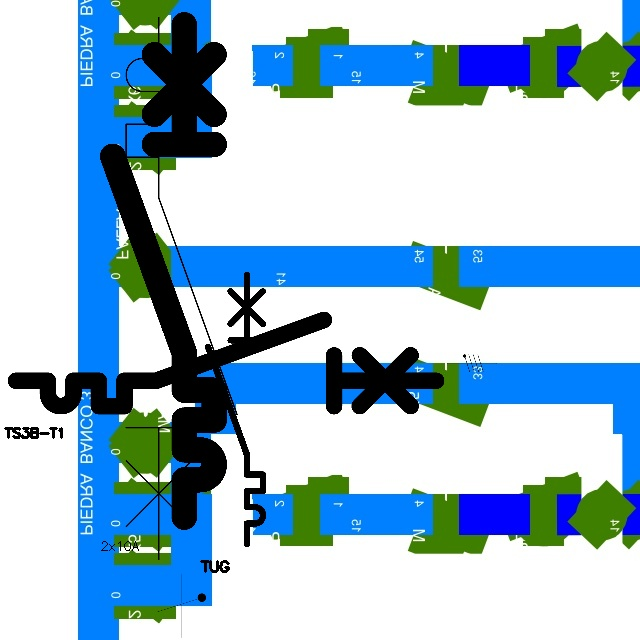interruptor_termomagnetico: (112, 3, 251, 573), (100, 12, 227, 530), (5, 309, 447, 417), (201, 268, 270, 551)
